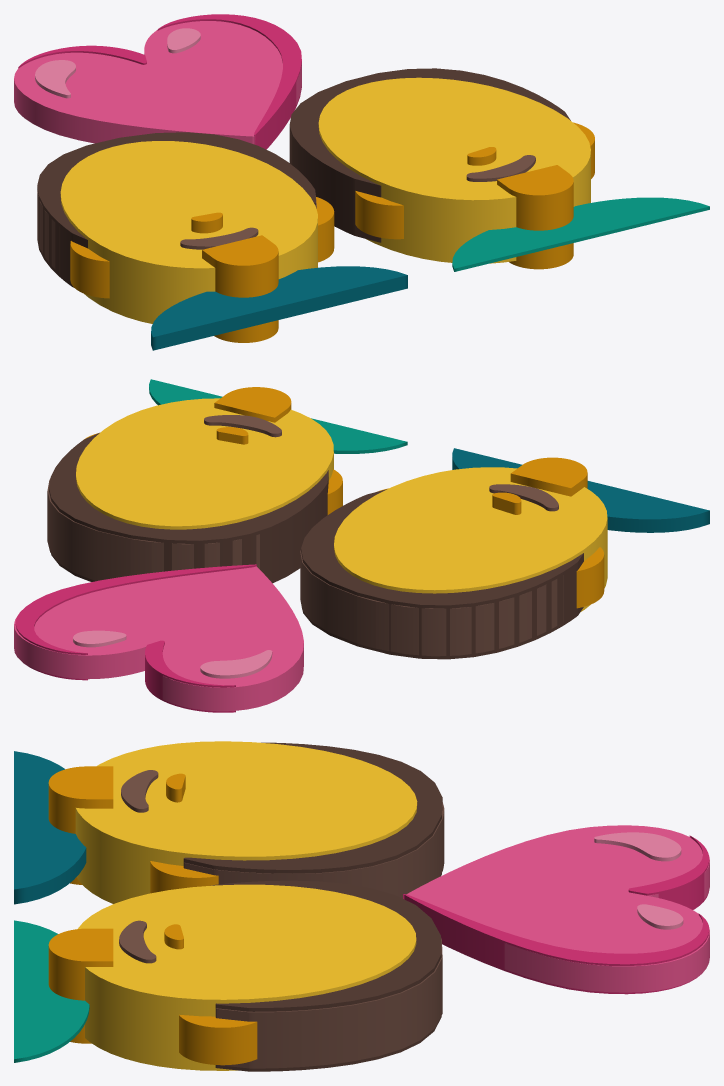
Rendered from emoji_u1f468_200d_2764_200d_1f468.glb.
The picture shows the model from 3 angles, top to bottom: view 1: azimuth 30°, elevation 25°; view 2: azimuth 150°, elevation 25°; view 3: azimuth 270°, elevation 25°; orthographic projection. The views are drawn at different scales.
Visible parts, largest first — view 1: emoji_u1f468_200d_2764_200d_1f468; view 2: emoji_u1f468_200d_2764_200d_1f468; view 3: emoji_u1f468_200d_2764_200d_1f468.
Boxes of the visible parts, bbox=[...] form: emoji_u1f468_200d_2764_200d_1f468: bbox=[14, 14, 709, 350]; emoji_u1f468_200d_2764_200d_1f468: bbox=[14, 379, 709, 712]; emoji_u1f468_200d_2764_200d_1f468: bbox=[14, 741, 709, 1071].
Size of the model in its own units: 0.0347 by 0.005 by 0.0337.
